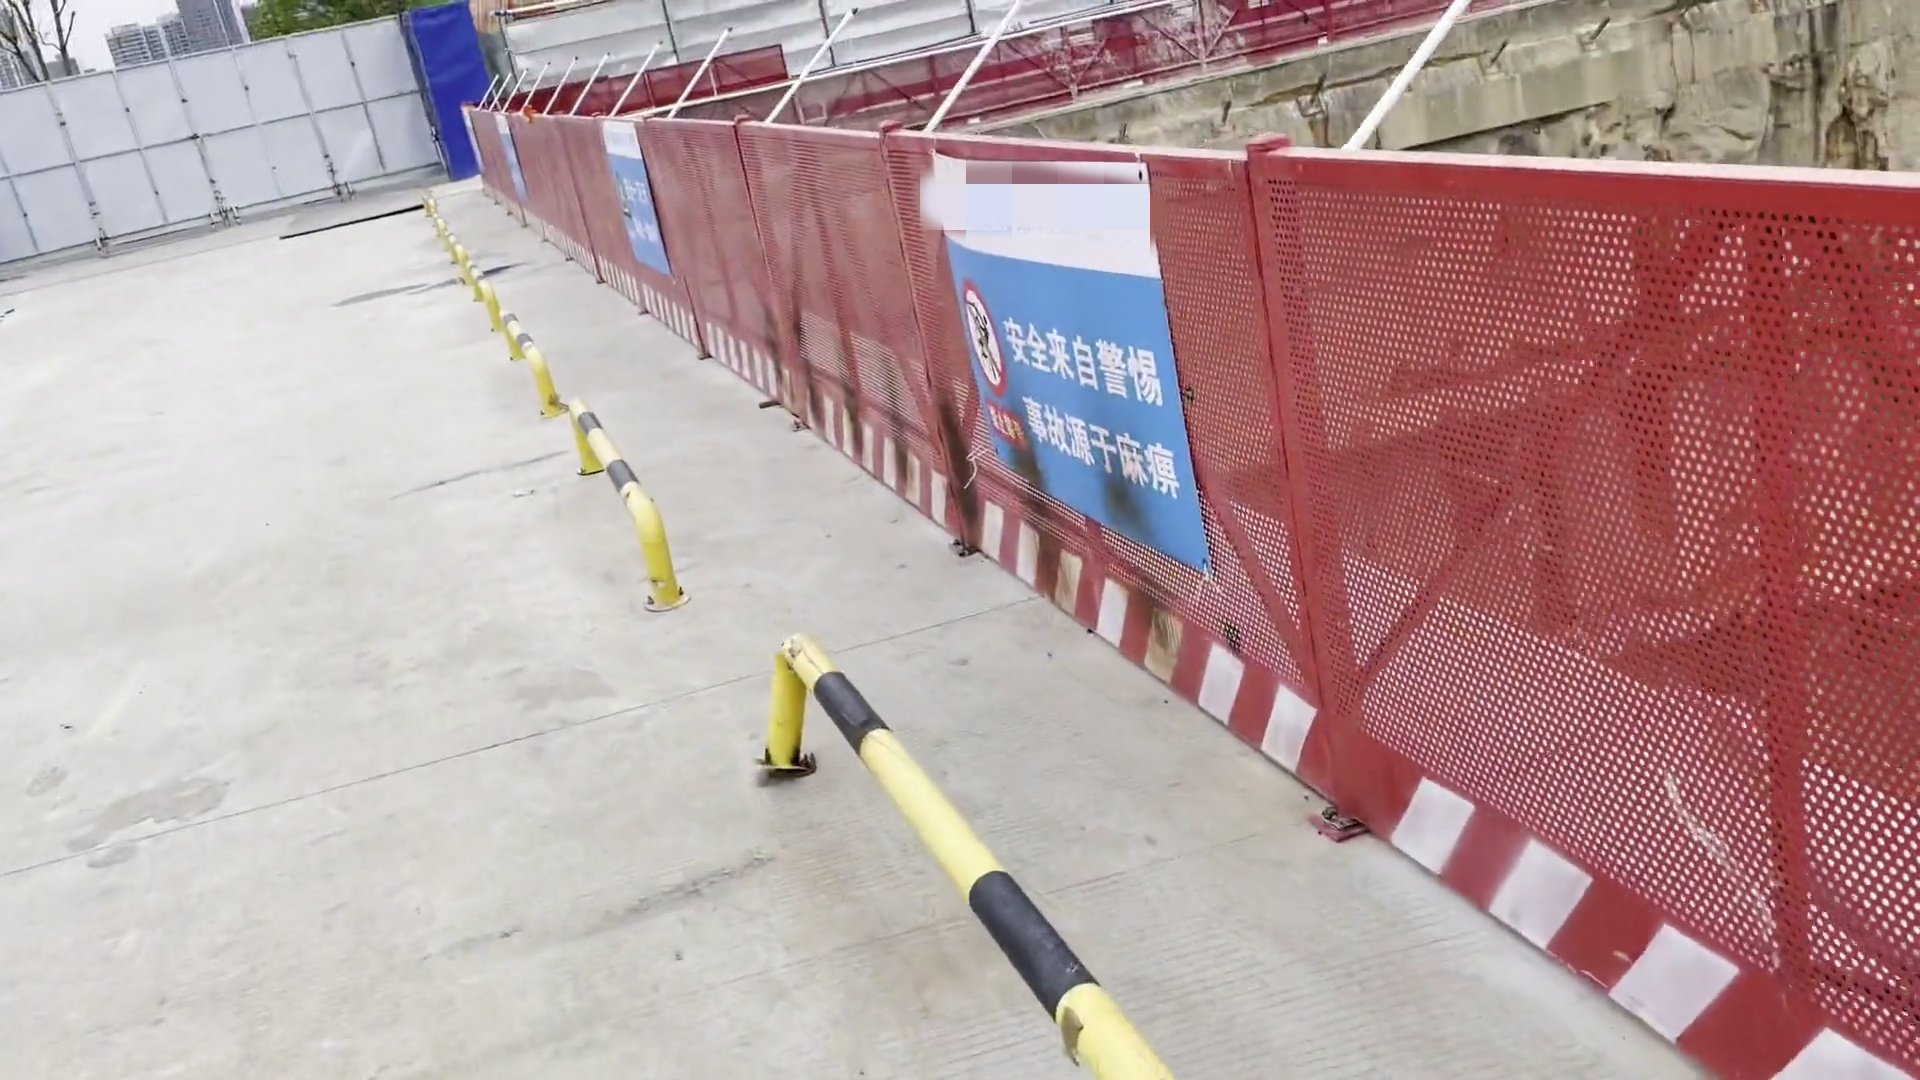fence: (1269, 127, 1920, 1080), (717, 111, 1284, 781), (454, 102, 735, 392), (952, 1, 1436, 94), (758, 61, 1104, 131)
slogan: (902, 152, 1261, 616), (591, 120, 680, 293), (481, 112, 545, 207)
